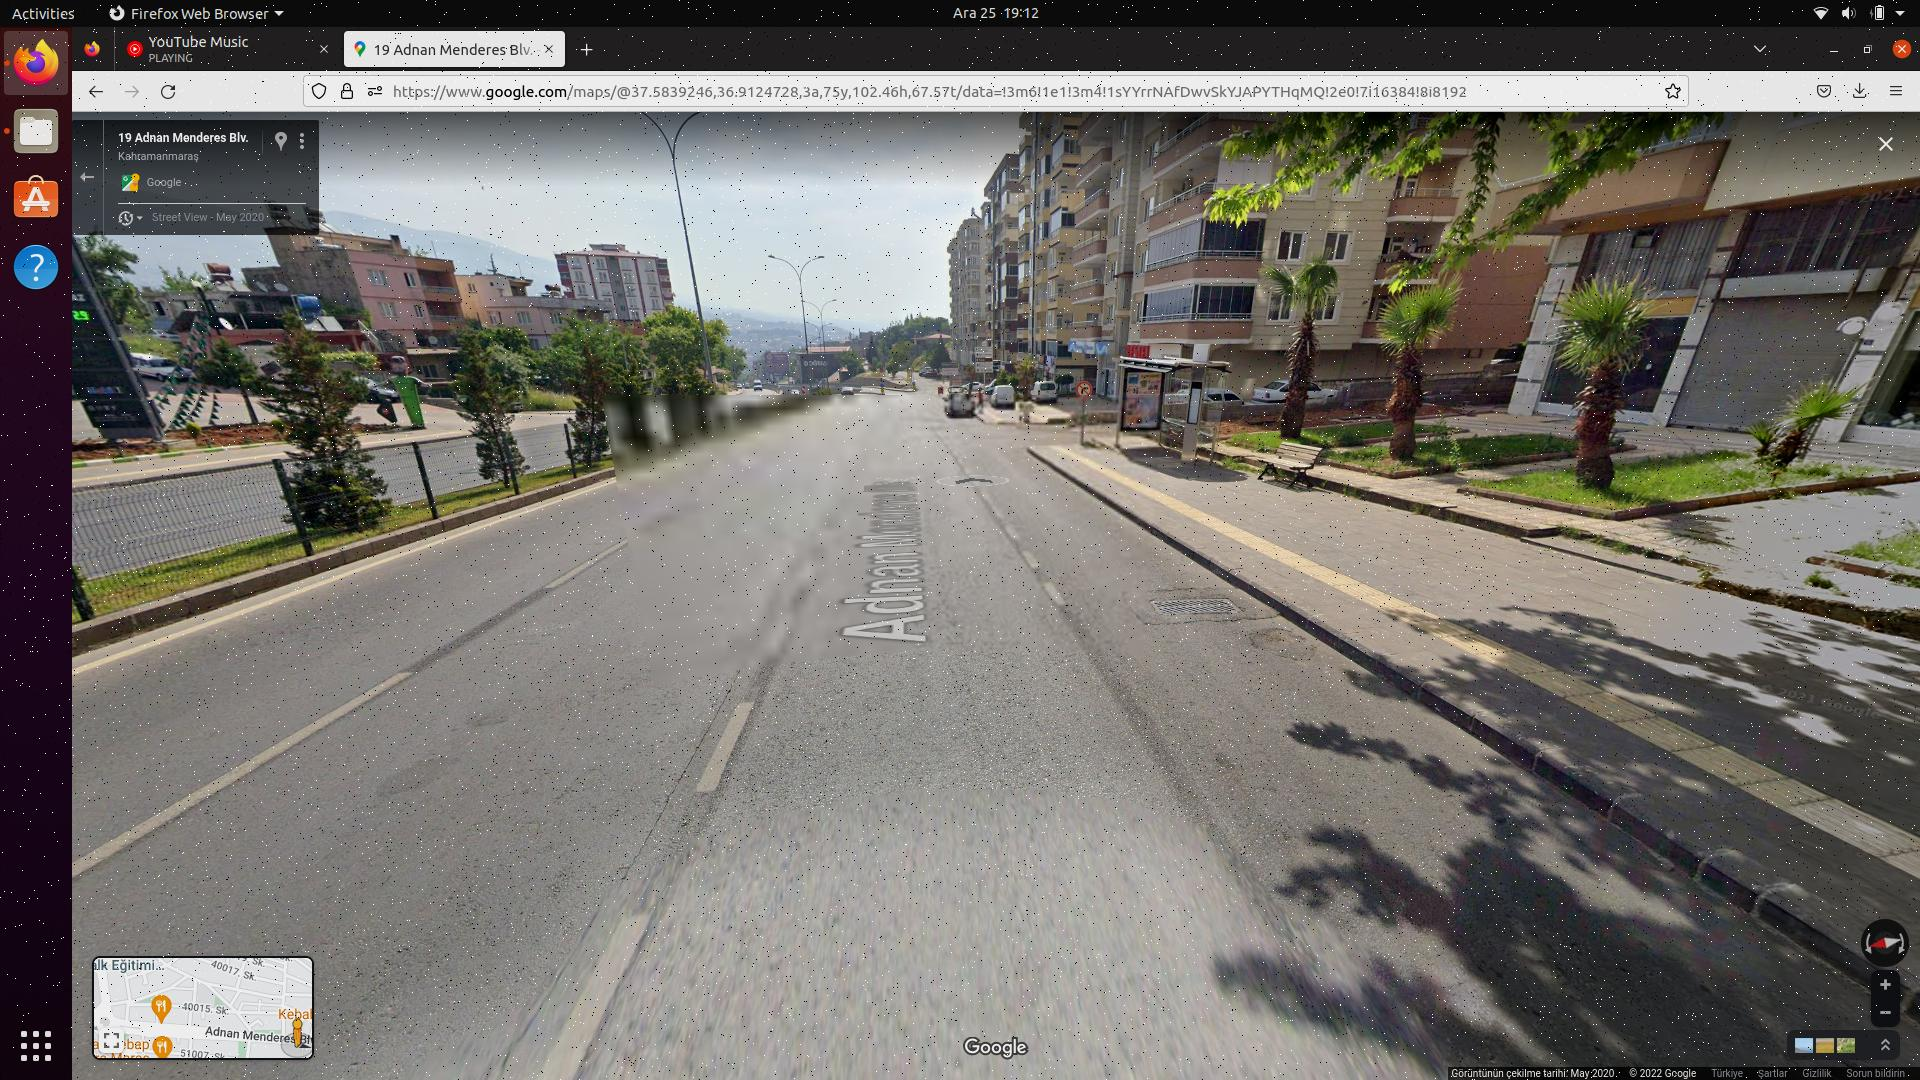rightturnsareforbidden: (1076, 381, 1092, 396)
